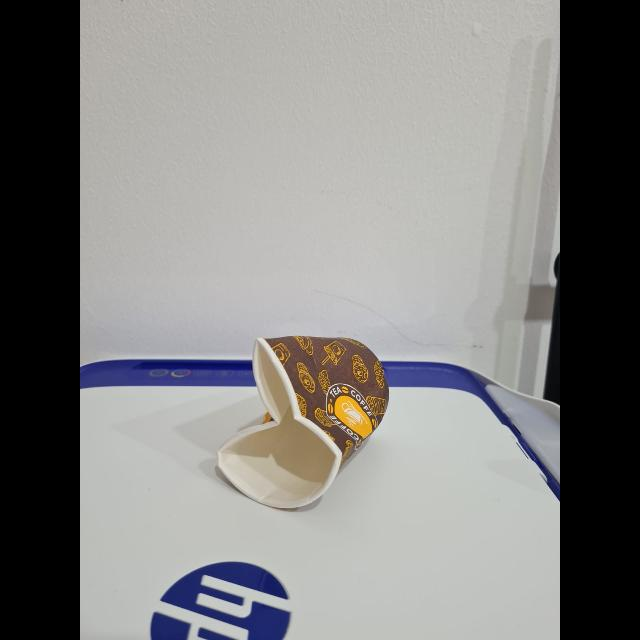trash: (211, 322, 399, 516)
